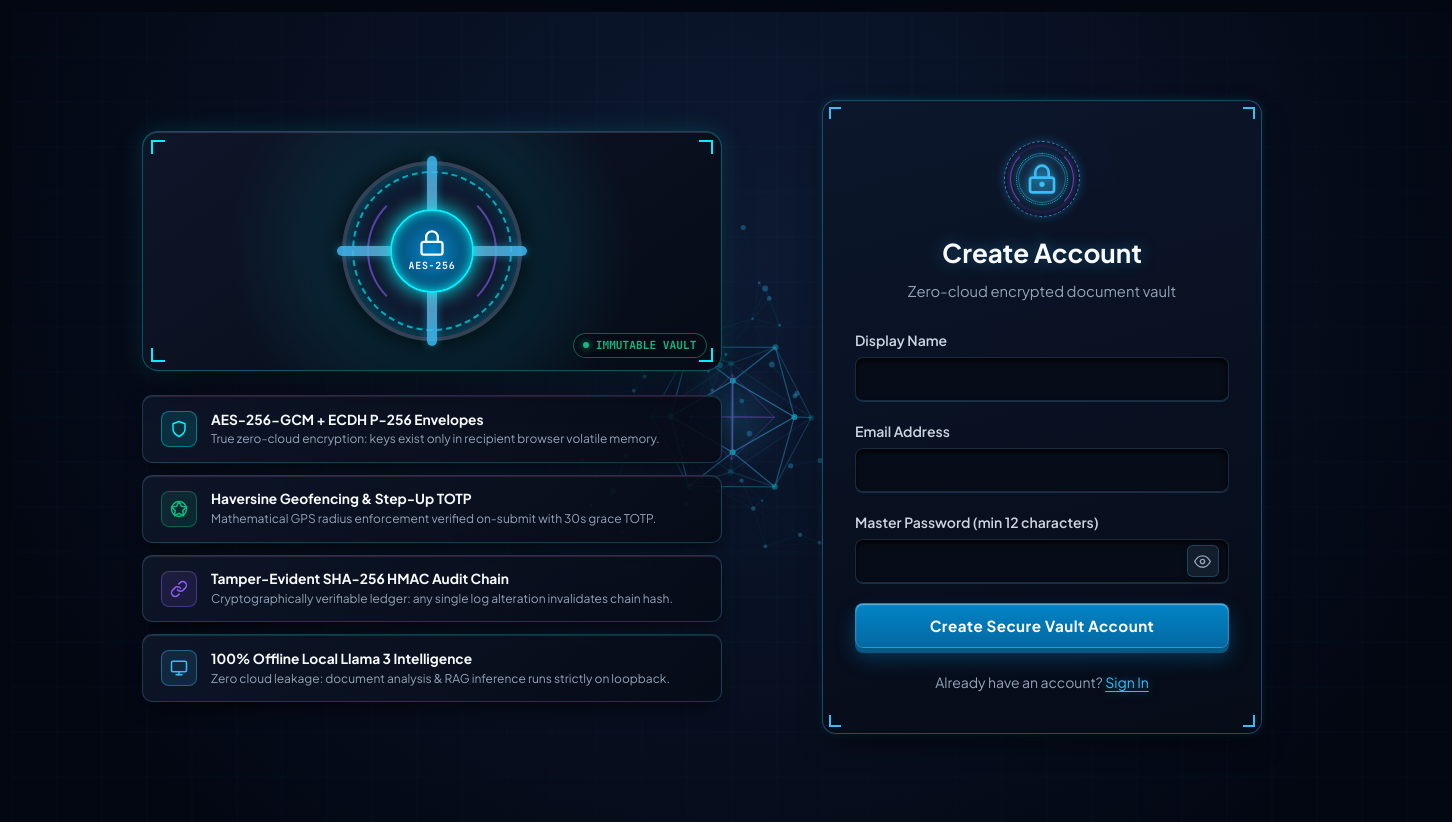
Test: Register Component Tests › submits valid registration and redirects to /login
Type "Valid User" into the field labelled "Display Name".
click(1042, 379); type("Valid User")  # box x1=855 y1=357 x2=1229 y2=401
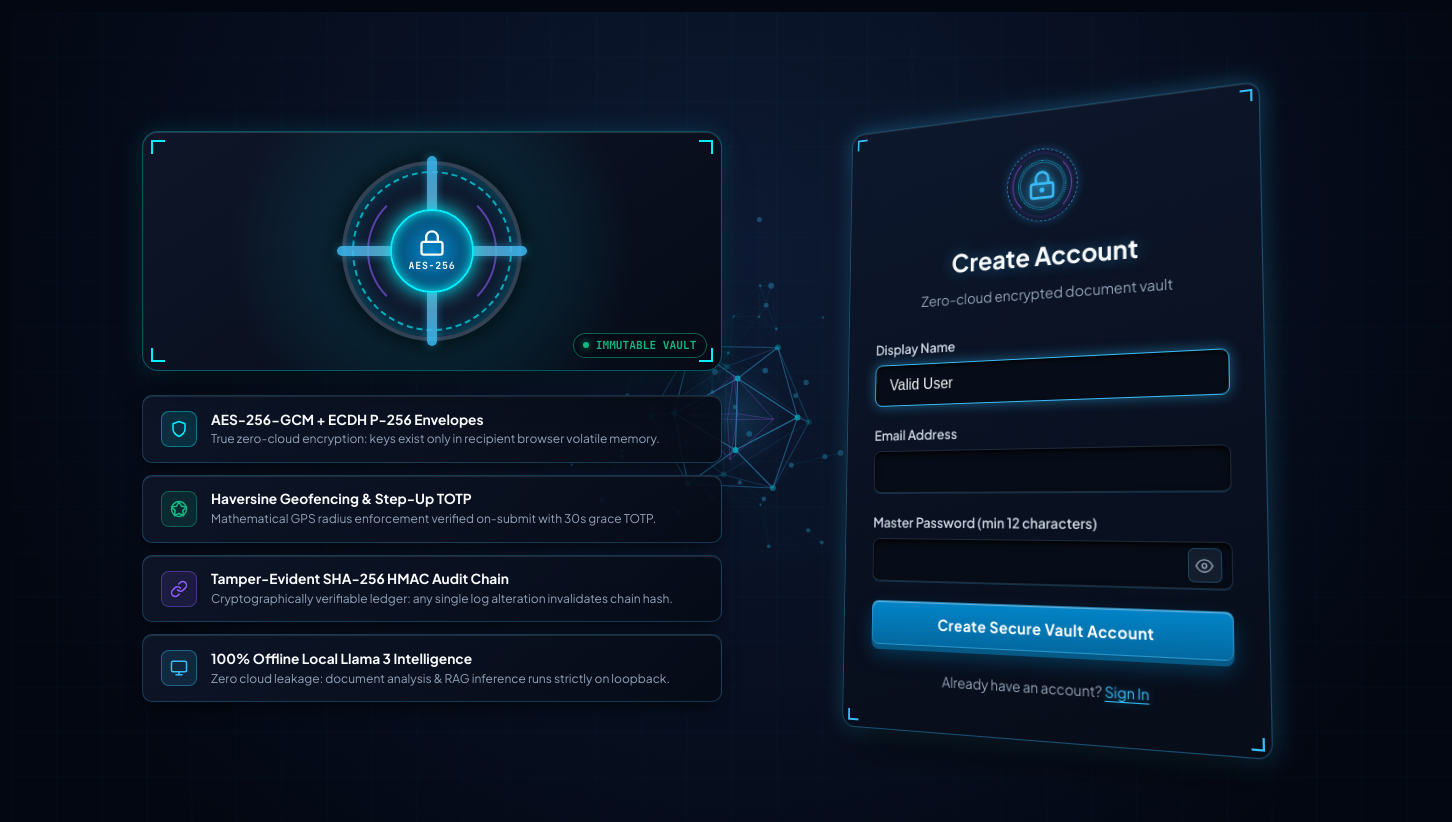
Type "valid@example.com" into the field labelled "Email Address".
click(1053, 469); type("valid@example.com")  # box x1=874 y1=444 x2=1232 y2=493
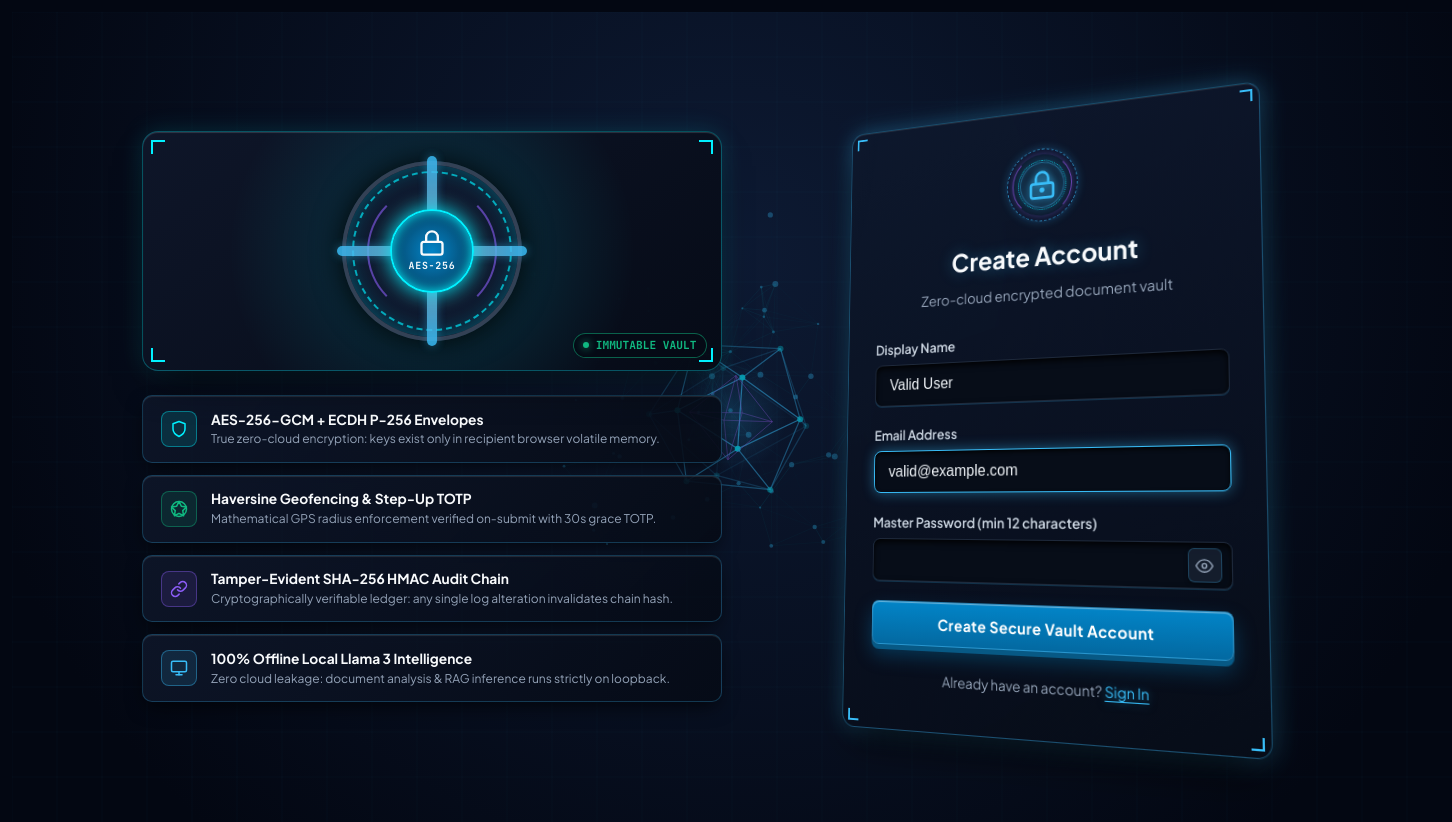
Type "ValidPassword123!" into the password field labelled "Master Password (min 12 characters)".
click(1053, 564); type("ValidPassword123!")  # box x1=872 y1=538 x2=1233 y2=590
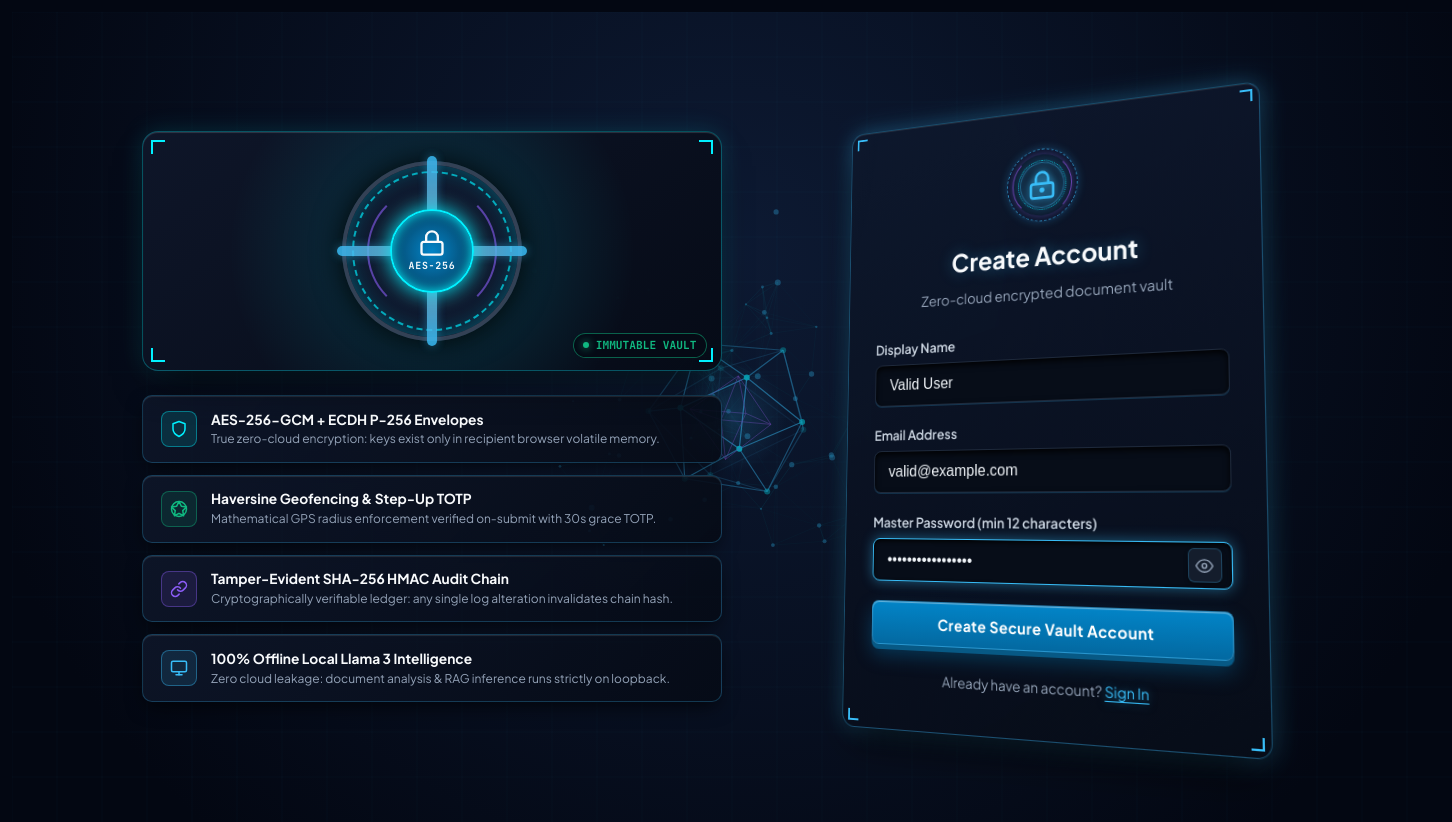
Click the button "Create Secure Vault Account".
click(1053, 631)  # box x1=872 y1=600 x2=1235 y2=662
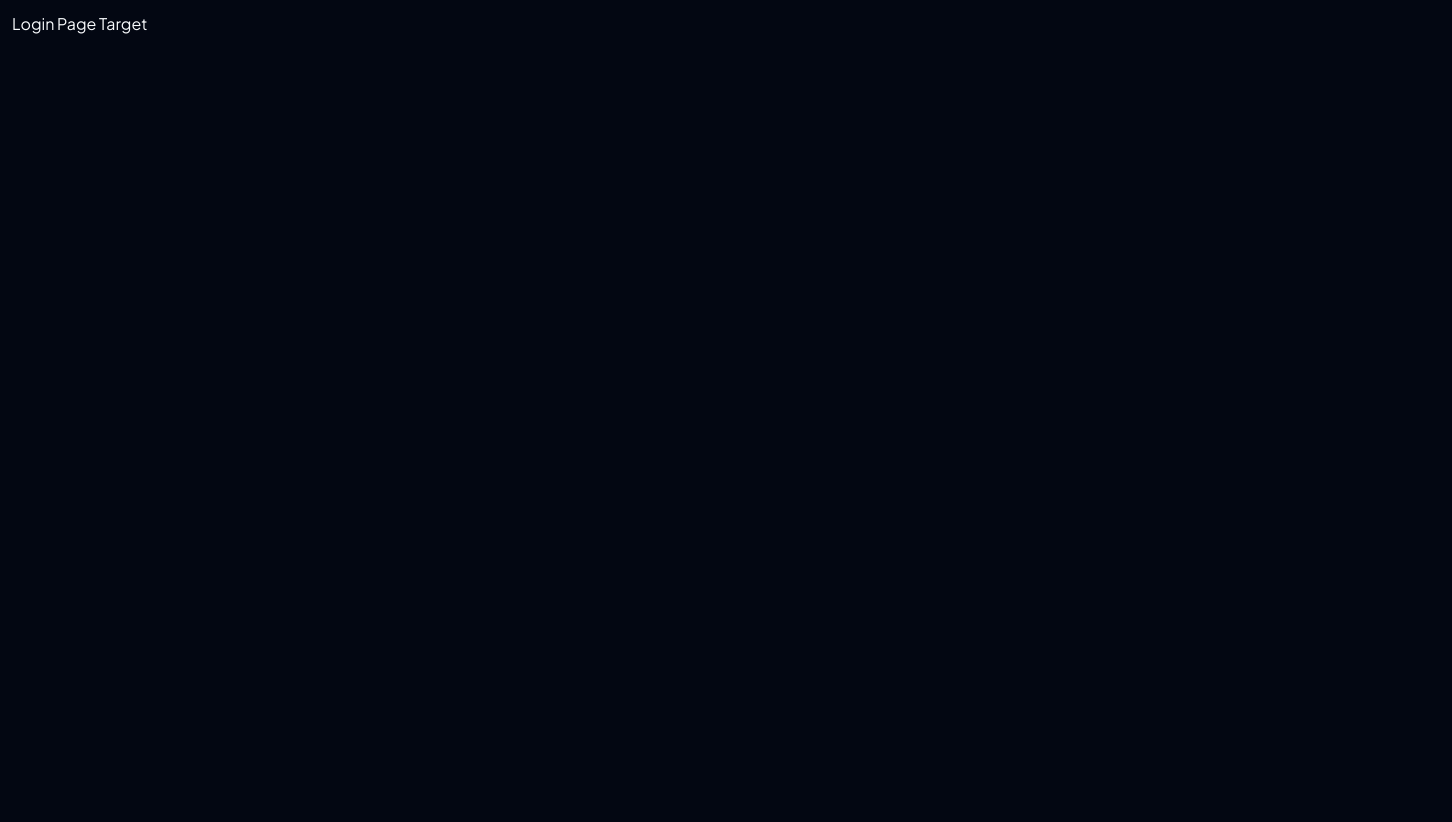
Expected: the text "Login Page Target" is shown, x1=12 y1=13 x2=148 y2=34
